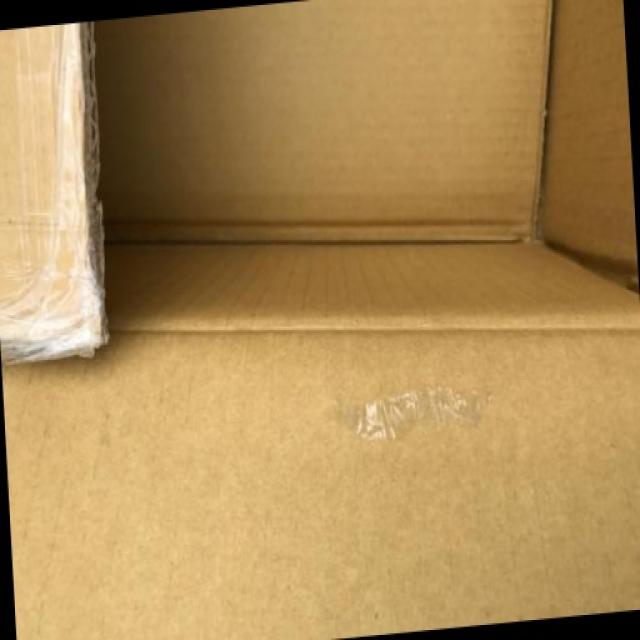carton: (45, 79, 322, 427)
